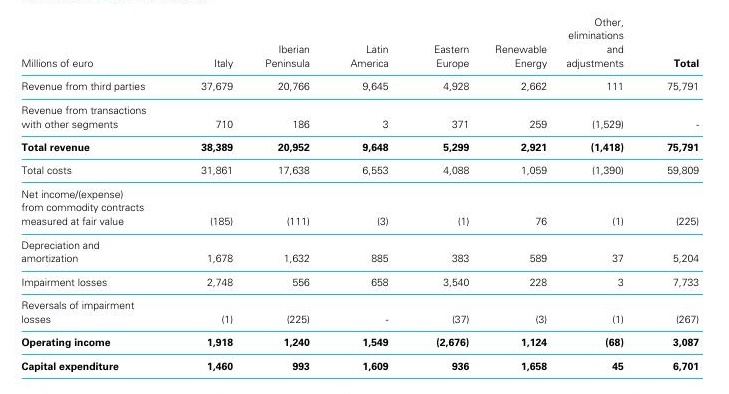table: (0, 0, 729, 394)
